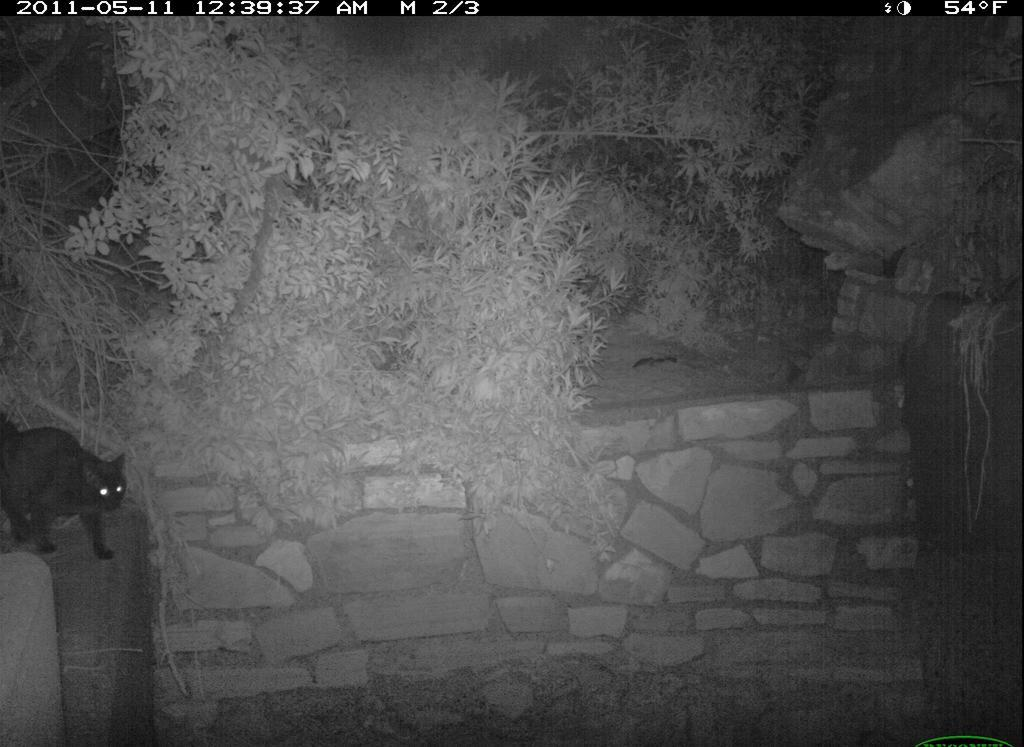cat: (1, 415, 139, 571)
